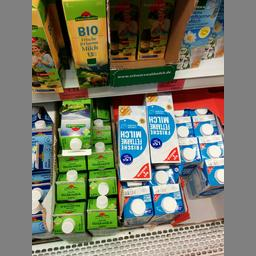milk: (62, 0, 108, 90), (139, 92, 184, 170), (116, 103, 150, 186)
